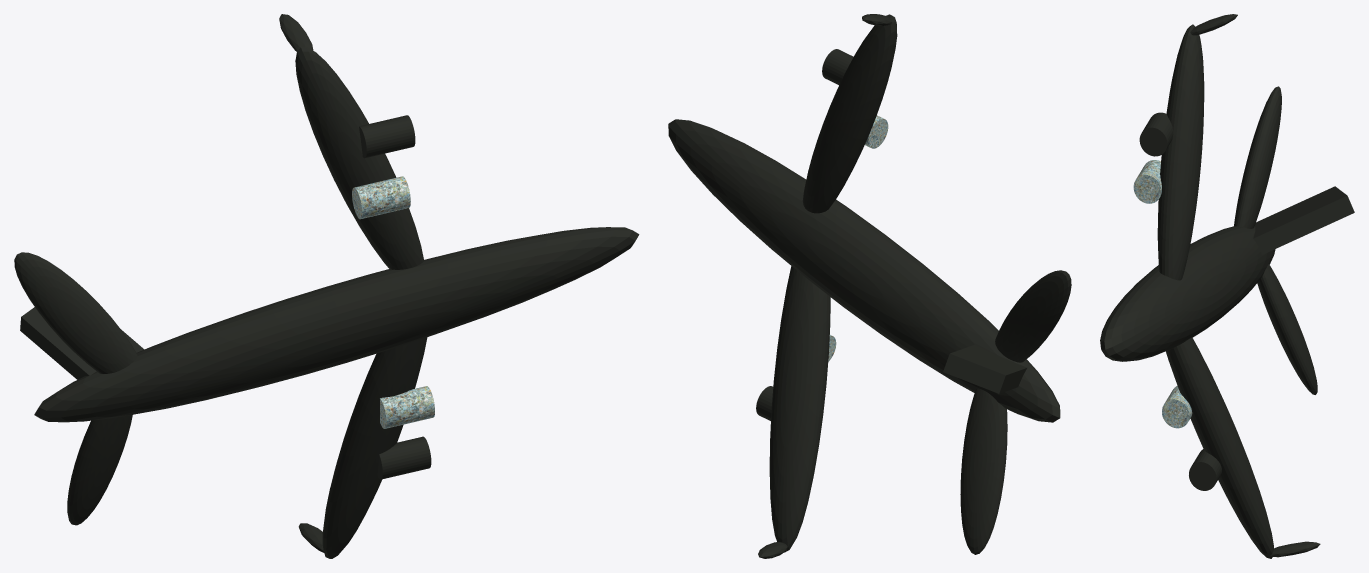
The model's file is avion.obj.
3 views of the same model, side by side, from view 1: azimuth 30°, elevation 25°; view 2: azimuth 150°, elevation 25°; view 3: azimuth 270°, elevation 25° (orthographic). The views are drawn at different scales.
Parts seen in each view (by area): view 1: Cylinder.001; view 2: Cylinder.001; view 3: Cylinder.001.
Boxes of the visible parts, box(x1,y1,x2,y2) form: Cylinder.001: box(14, 14, 639, 558); Cylinder.001: box(668, 14, 1071, 558); Cylinder.001: box(1100, 14, 1354, 558).
Size of the model in its own units: 3.3 by 3.44 by 1.54.
11 materials, 11 textured.
